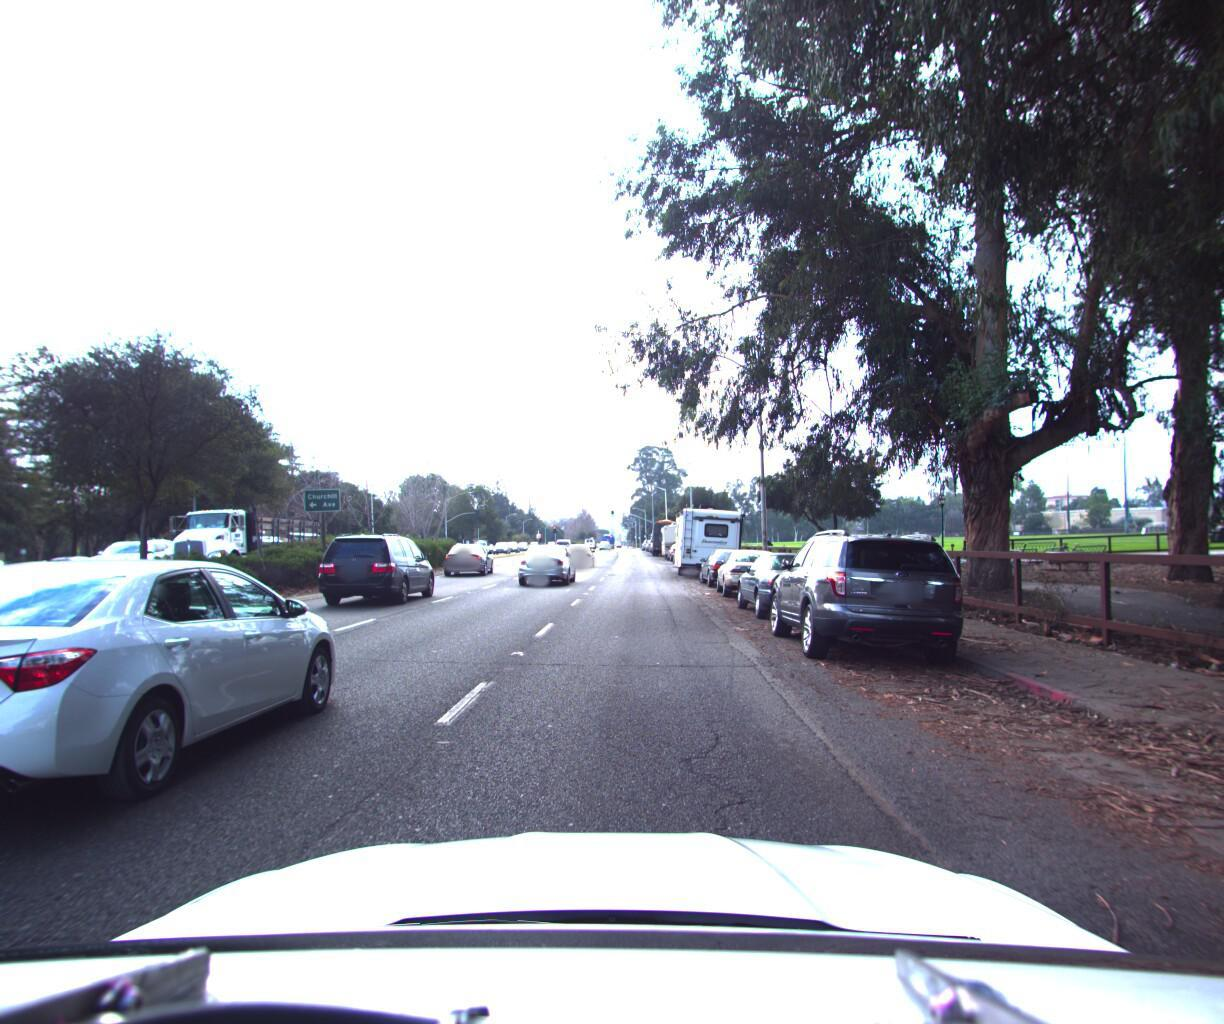bus: (649, 513, 680, 549)
car: (0, 528, 368, 844), (756, 511, 979, 671), (307, 529, 443, 607), (728, 539, 855, 619), (71, 540, 185, 587), (710, 539, 791, 594), (512, 536, 580, 582), (694, 538, 759, 584), (439, 537, 495, 573), (0, 544, 16, 602), (560, 536, 594, 562)
other_vehicle: (668, 495, 747, 573), (658, 516, 695, 551)
truck: (140, 505, 336, 576)
